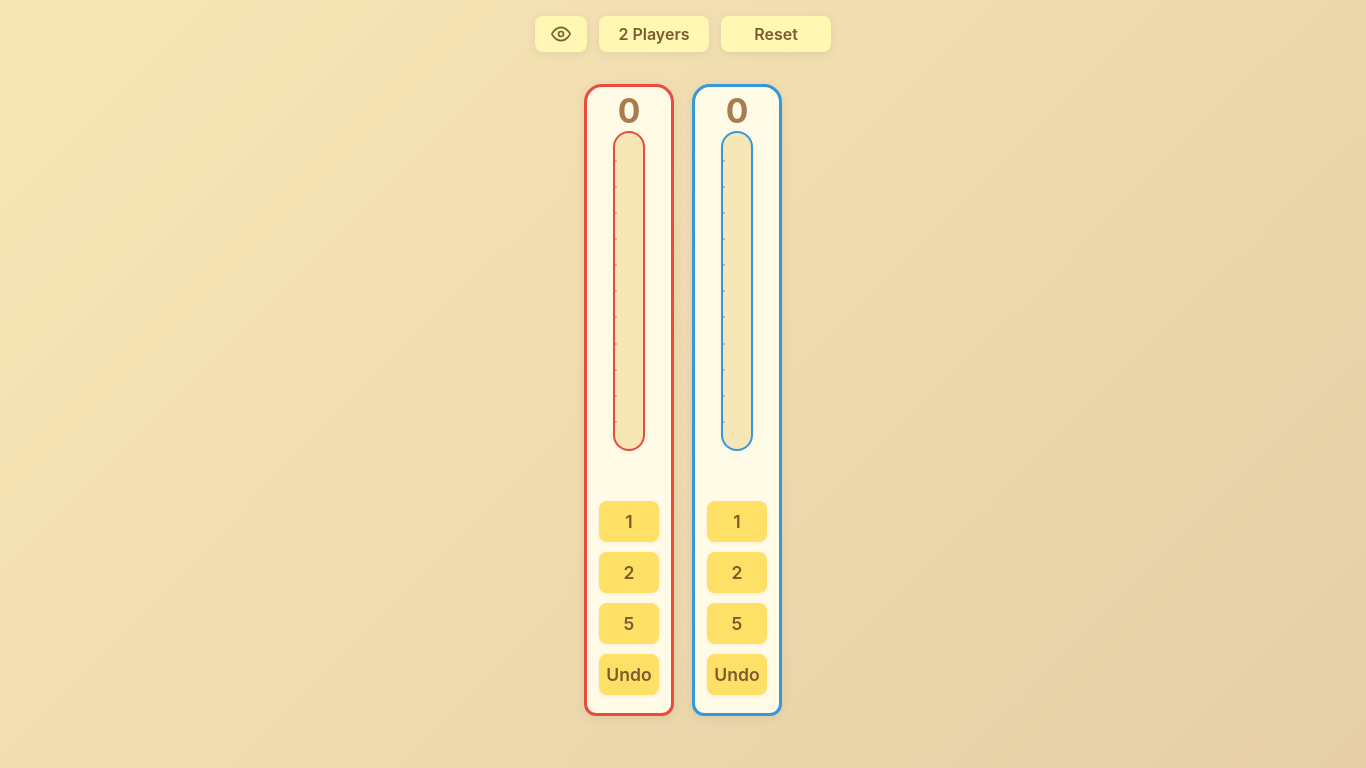
CribbageBoard › toggles player count
This screenshot has width=1366, height=768.
expect the text "0" is shown 2 times: met, box [618,99,640,123]; [726,99,748,123]
Click the button "2 Players" at [654, 34], box [599,16,709,52]
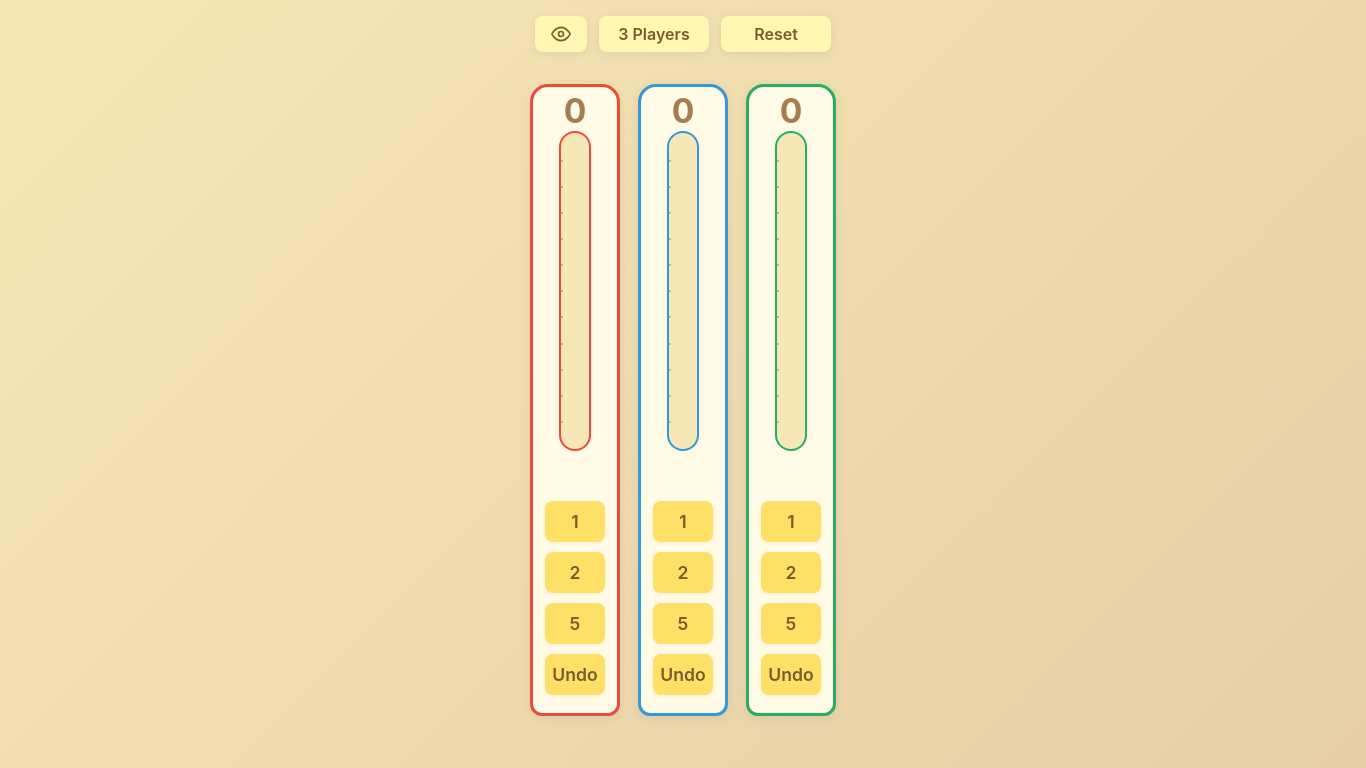
expect the button "3 Players" is shown: met
expect the text "0" is shown 3 times: met, box [564,99,586,123]; [672,99,694,123]; [780,99,802,123]
Click the button "3 Players" at [654, 34], box [599,16,709,52]
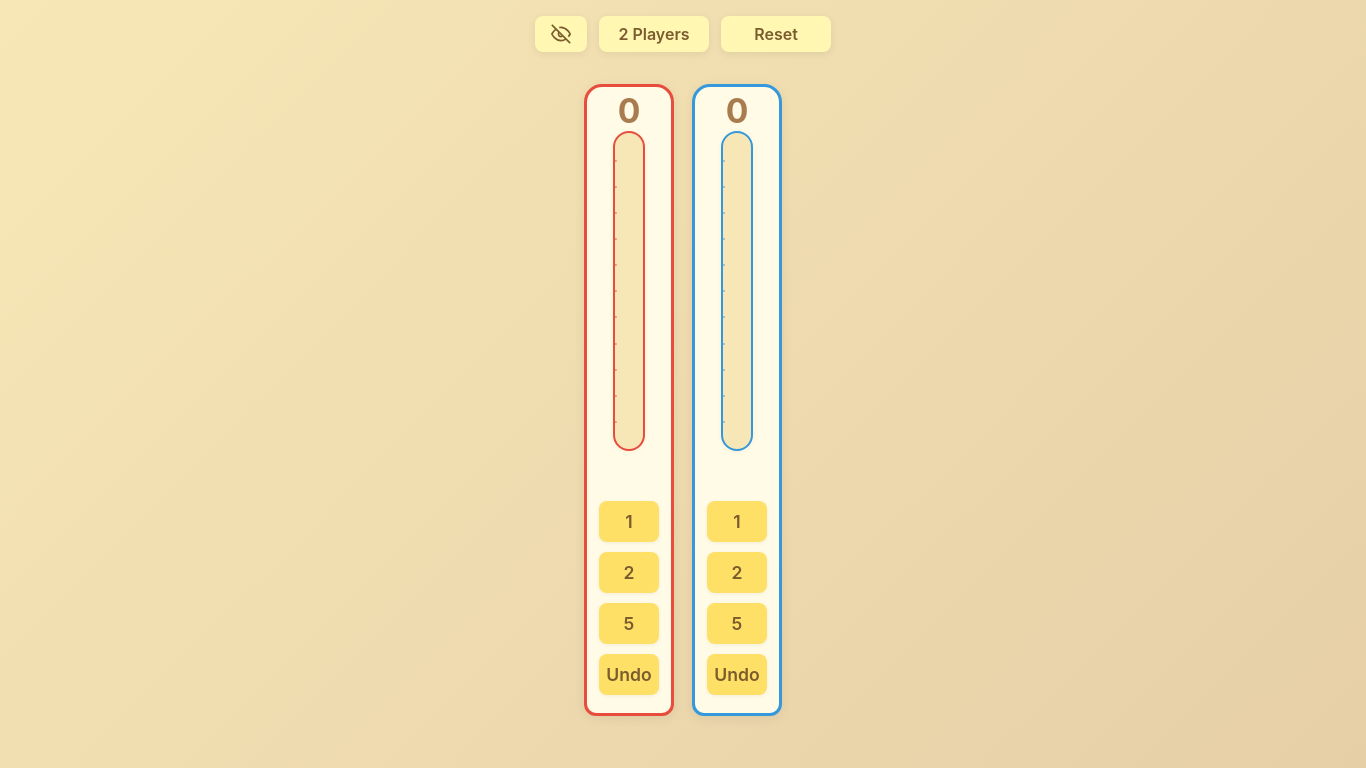
expect the button "2 Players" is shown: met, box [599,16,709,52]
expect the text "0" is shown 2 times: met, box [618,99,640,123]; [726,99,748,123]
